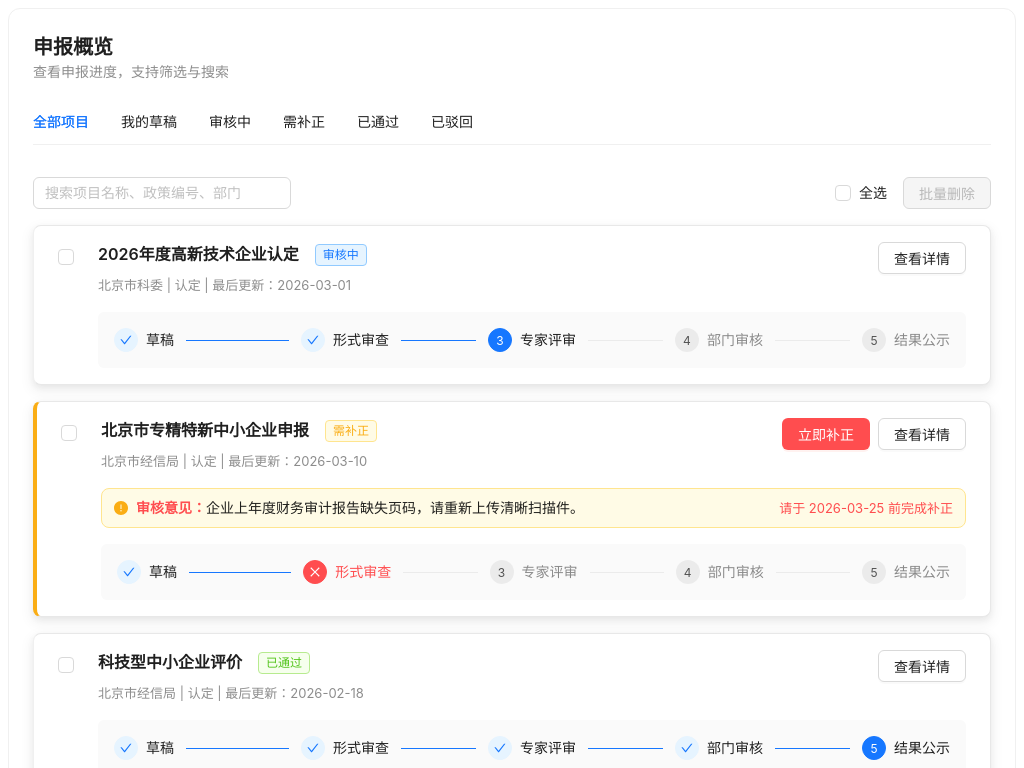
it: OptimizedMyApplications Component › enables batch delete button when items selected
This screenshot has width=1024, height=768.
Expected: the button "批量删除" is disabled, [903, 177, 991, 209]
Click the 1st checkbox labelled "全选" at (865, 193), box [835, 182, 895, 204]
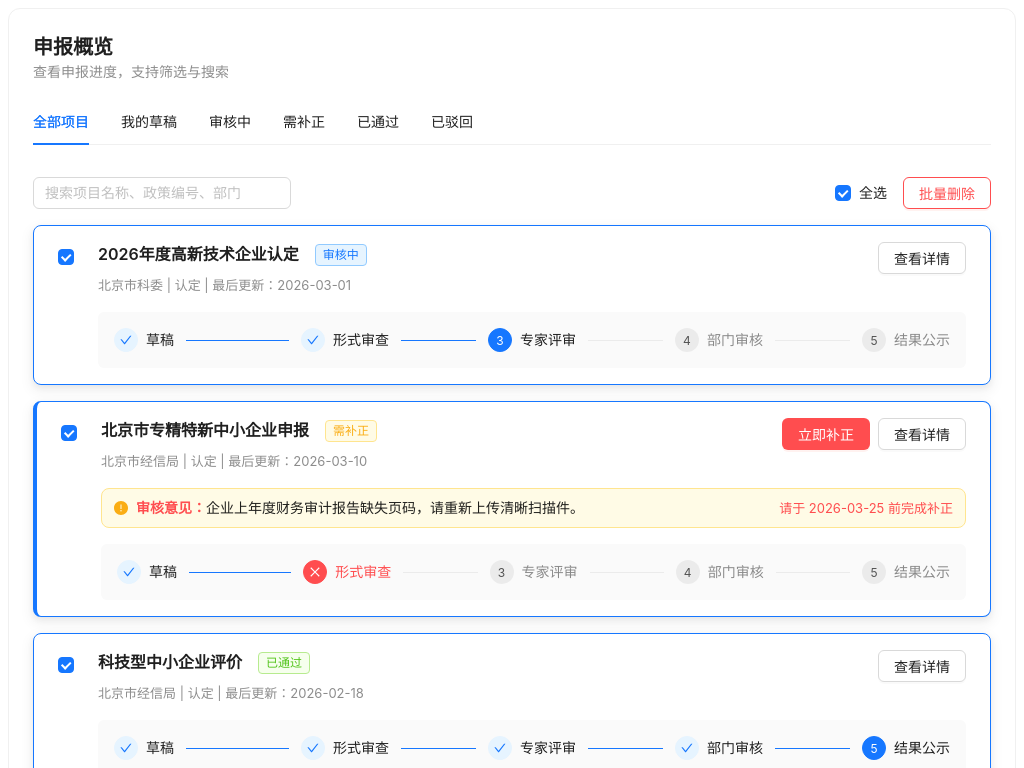
Result: the button "批量删除" is enabled at [903, 177, 991, 209]
